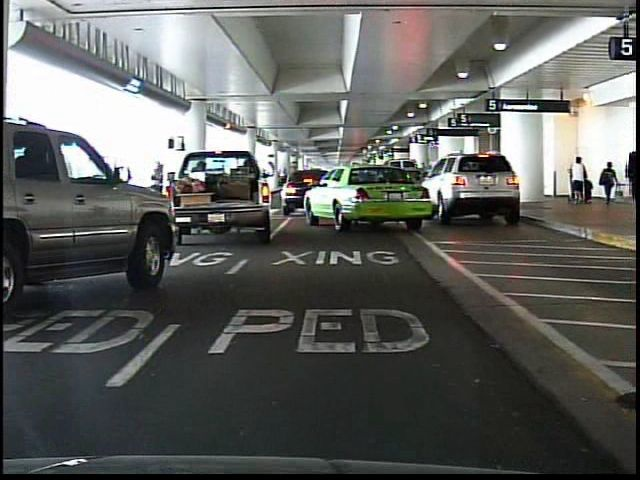person: (147, 158, 172, 219), (597, 157, 621, 208), (574, 155, 589, 207), (570, 158, 583, 208)
